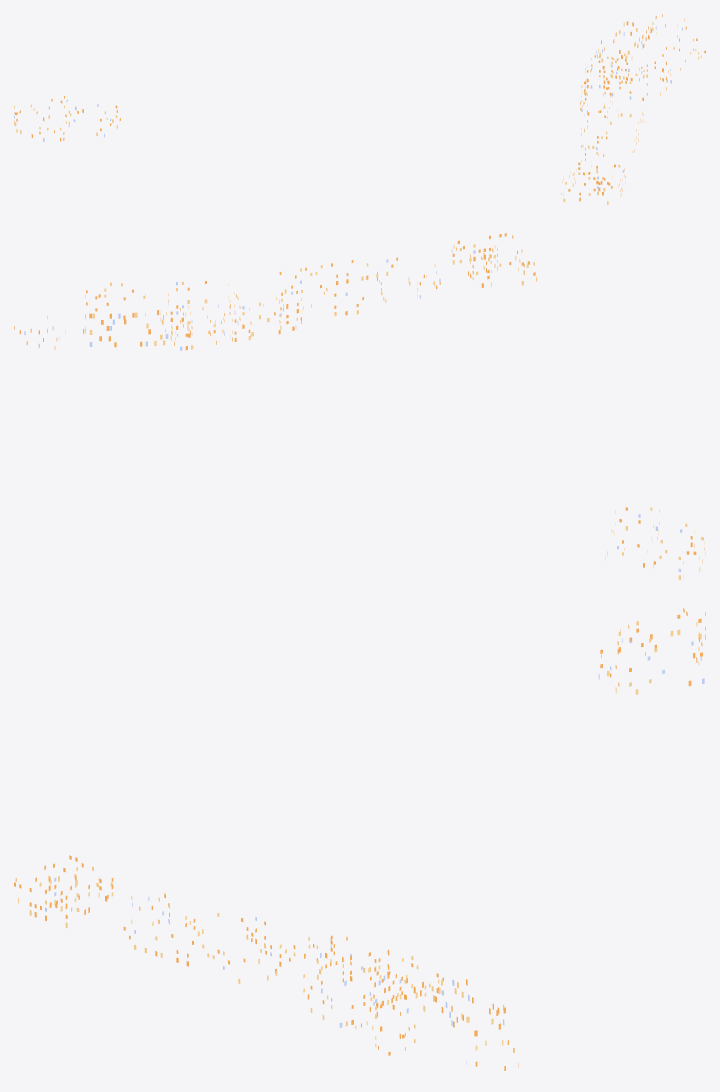
The model's file is buildings-fenway-lights-dusk.glb.
3 renders of one model, top to bottom at view 1: azimuth 30°, elevation 25°; view 2: azimuth 150°, elevation 25°; view 3: azimuth 270°, elevation 25°, orthographic. The views are drawn at different scales.
Visible parts, largest first — view 1: buildings-fenway-lights-dusk; view 2: buildings-fenway-lights-dusk; view 3: buildings-fenway-lights-dusk.
Part boxes in pixels (<box>): buildings-fenway-lights-dusk: <box>14,14,705,204</box>; buildings-fenway-lights-dusk: <box>14,233,705,579</box>; buildings-fenway-lights-dusk: <box>14,608,705,1070</box>.
Size of the model in its own units: 454 by 14.11 by 300.
